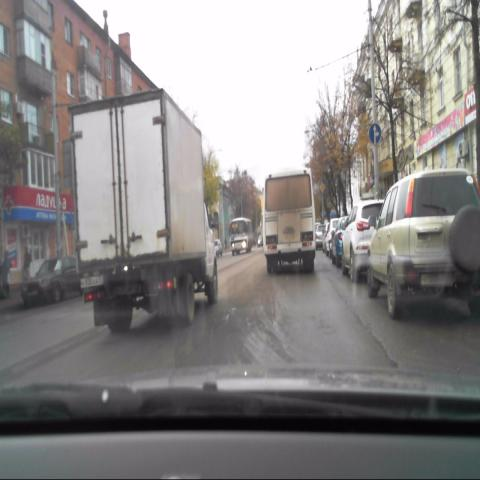4_1_4: (368, 121, 381, 144)
